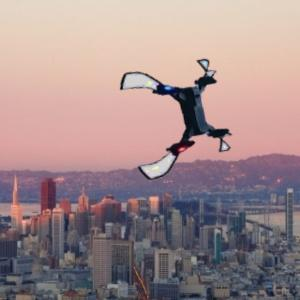drone: (120, 64, 233, 177)
